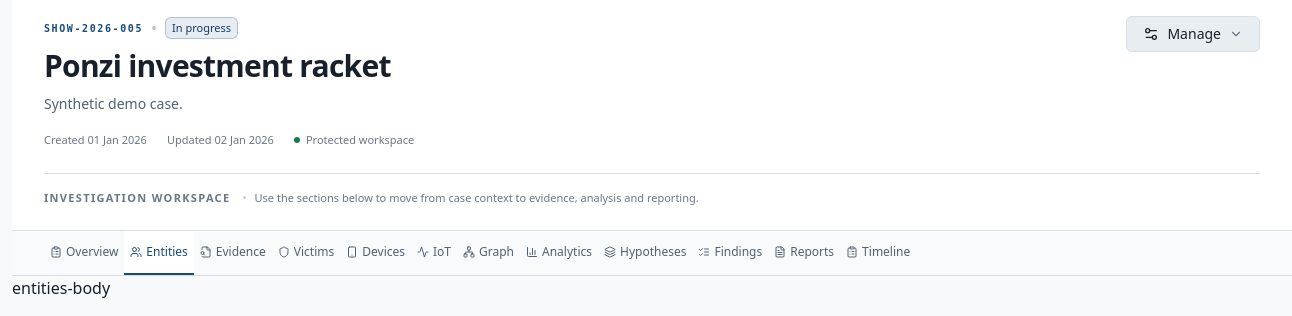
case workspace navigation › highlights the active tab and switches content on click
Expected: the text "entities-body" is shown, [12,277,110,299]
Click the link "Reports" at (804, 252), box [774,243,834,260]
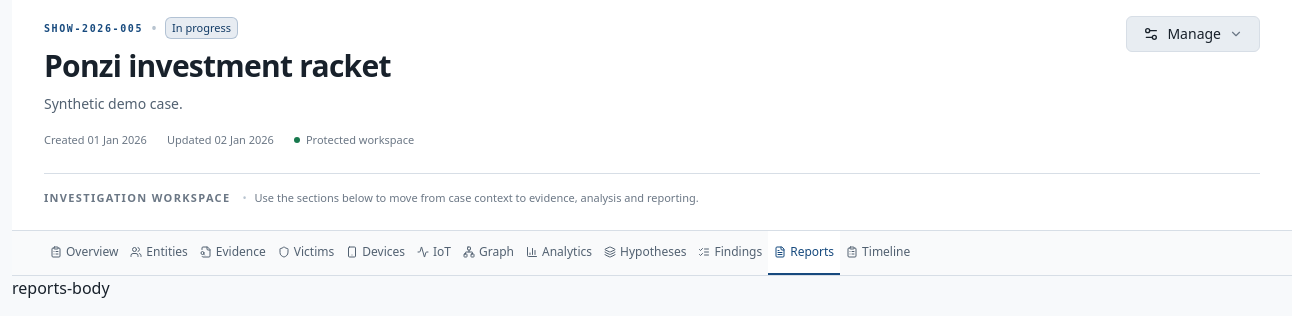
Now the text "reports-body" is shown, box [12,277,110,299]
